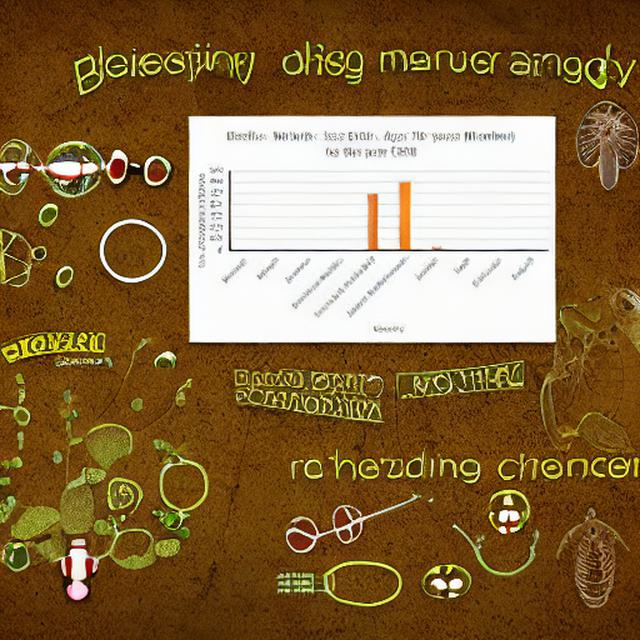Graph: (194, 122, 552, 339)
